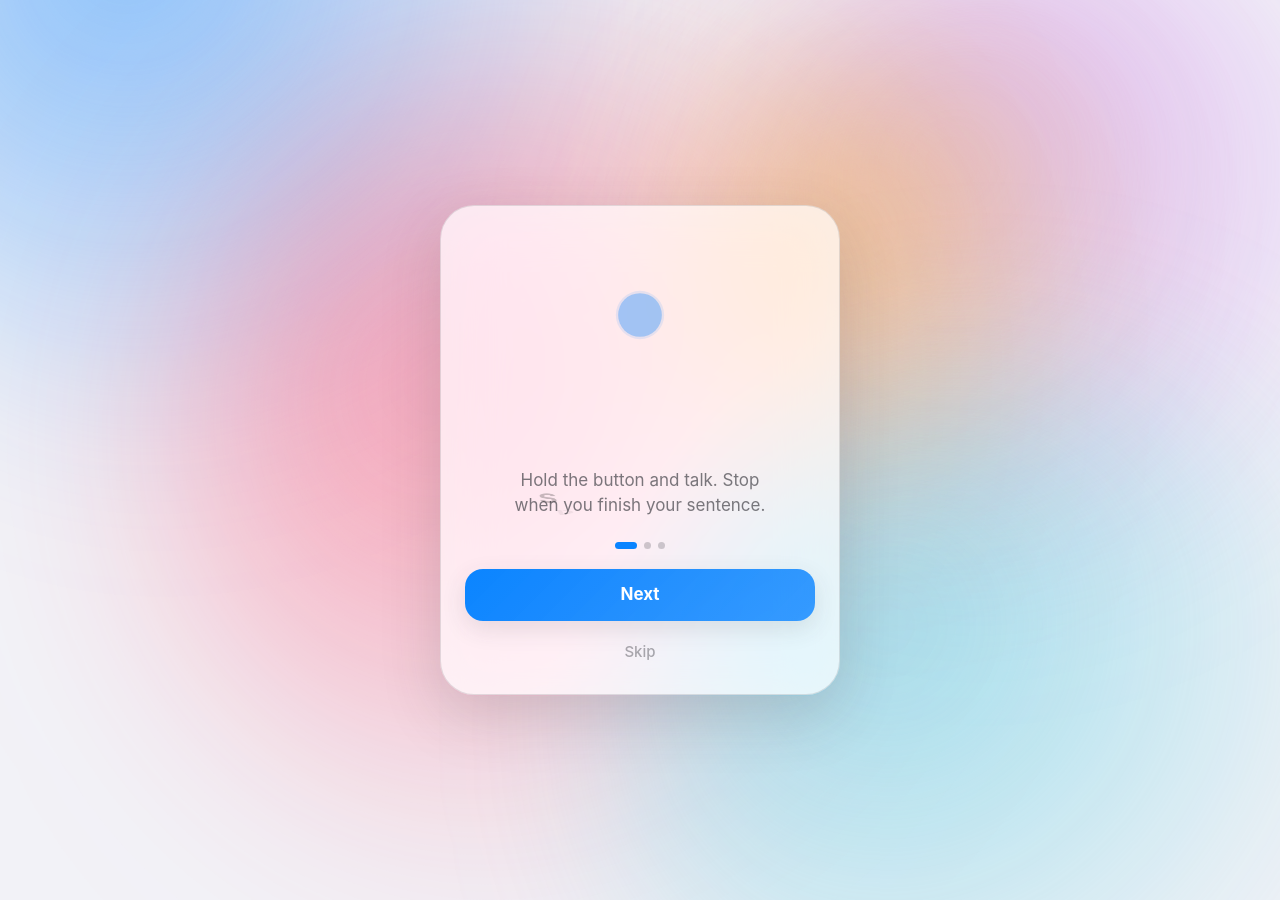
Test: App integration › onboarding › can be skipped from the first step
Expected: the element with test id "onboarding" is shown, top-left (440, 205), bottom-right (840, 695)
Click the button with test id "onboarding-skip" at point(640, 652), box top-left (616, 633), bottom-right (664, 670)
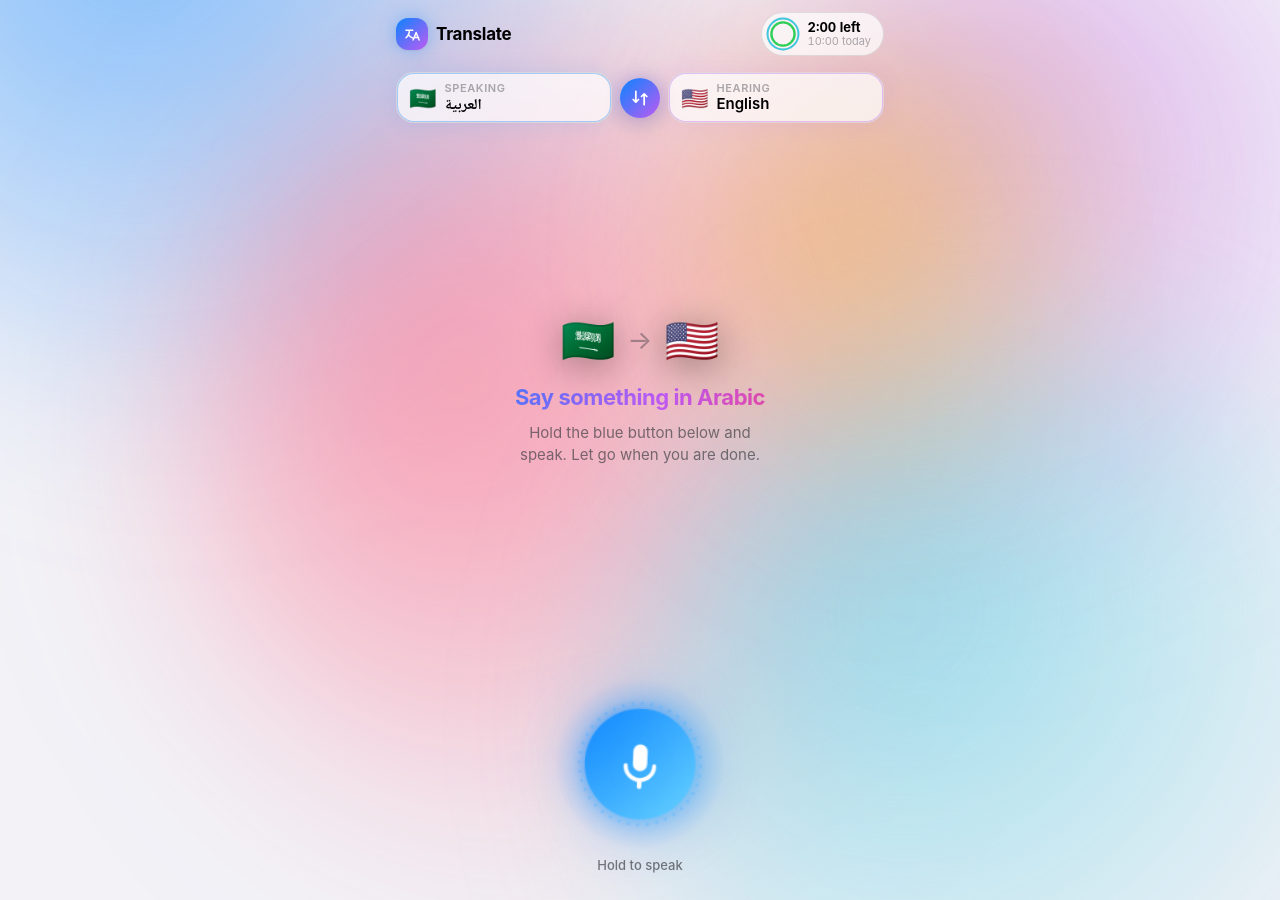
Now the button with test id "mic-orb" is shown, box top-left (547, 671), bottom-right (733, 857)
